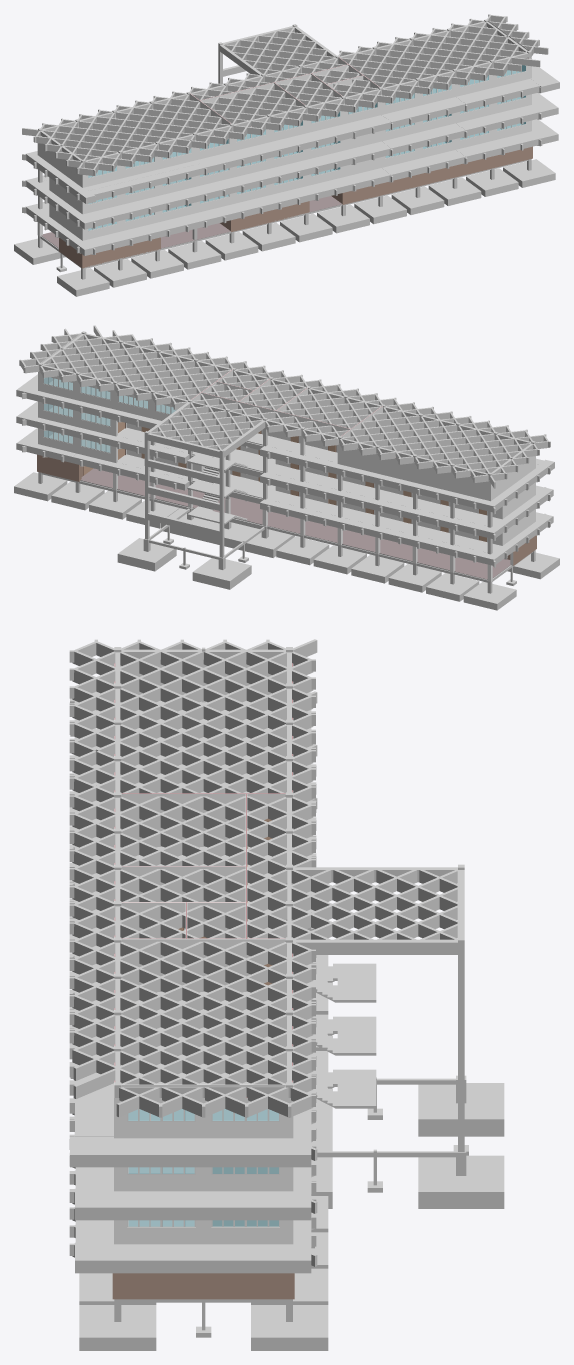
3 views of the same model, one above another, from view 1: azimuth 30°, elevation 25°; view 2: azimuth 150°, elevation 25°; view 3: azimuth 270°, elevation 25° (orthographic). The views are drawn at different scales.
Visible parts, largest first — view 1: EN101RF, EN10101, EN10104, EN10102, EN10103; view 2: EN101RF, EN10101, EN10104, EN10102, EN10103; view 3: EN101RF, EN10101, EN10104, EN10103, EN10102.
Part boxes in pixels (<box>): EN101RF: <box>22,14,548,175</box>; EN10101: <box>14,133,555,296</box>; EN10104: <box>22,19,559,203</box>; EN10102: <box>22,119,558,255</box>; EN10103: <box>22,70,558,229</box>; EN101RF: <box>19,325,550,488</box>; EN10101: <box>14,454,559,610</box>; EN10104: <box>16,331,554,514</box>; EN10102: <box>16,428,553,567</box>; EN10103: <box>16,401,553,540</box>; EN101RF: <box>69,639,464,1117</box>; EN10101: <box>79,955,504,1350</box>; EN10104: <box>69,647,464,1167</box>; EN10103: <box>69,744,464,1220</box>; EN10102: <box>69,797,464,1273</box>.
Bounding box in the file's own units: 64.03 × 15.95 × 24.9.
